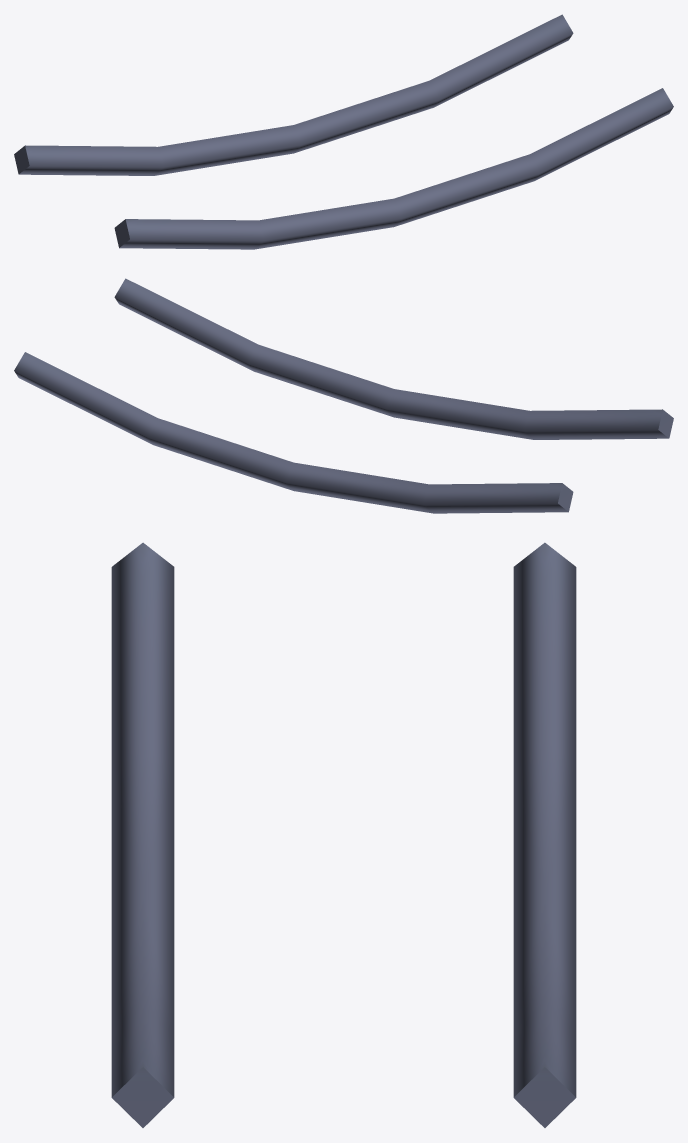
The model's file is road_electricity_wires.glb.
3 renders of one model, top to bottom at view 1: azimuth 30°, elevation 25°; view 2: azimuth 150°, elevation 25°; view 3: azimuth 270°, elevation 25°, orthographic. The views are drawn at different scales.
Parts seen in each view (by area): view 1: electricity-wires; view 2: electricity-wires; view 3: electricity-wires.
Boxes of the visible parts, box(x1,y1,x2,y2) form: electricity-wires: box(14, 14, 673, 249); electricity-wires: box(14, 278, 673, 513); electricity-wires: box(111, 542, 576, 1127).
Bounding box in the file's own units: 0.5059 × 0.0647 × 0.185.
1 material, 1 textured.
